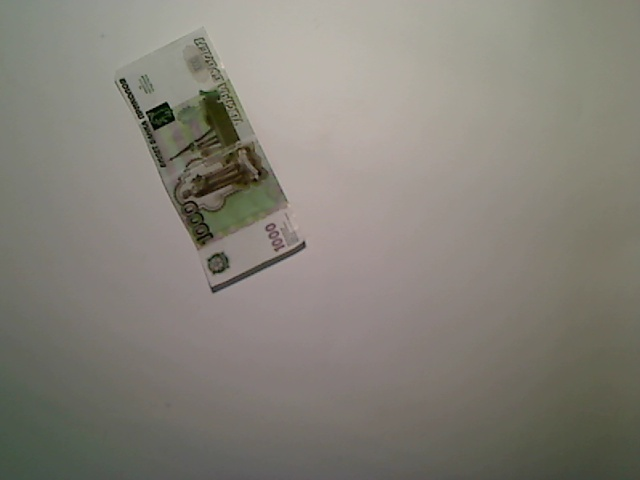banknotes: (109, 24, 310, 297)
